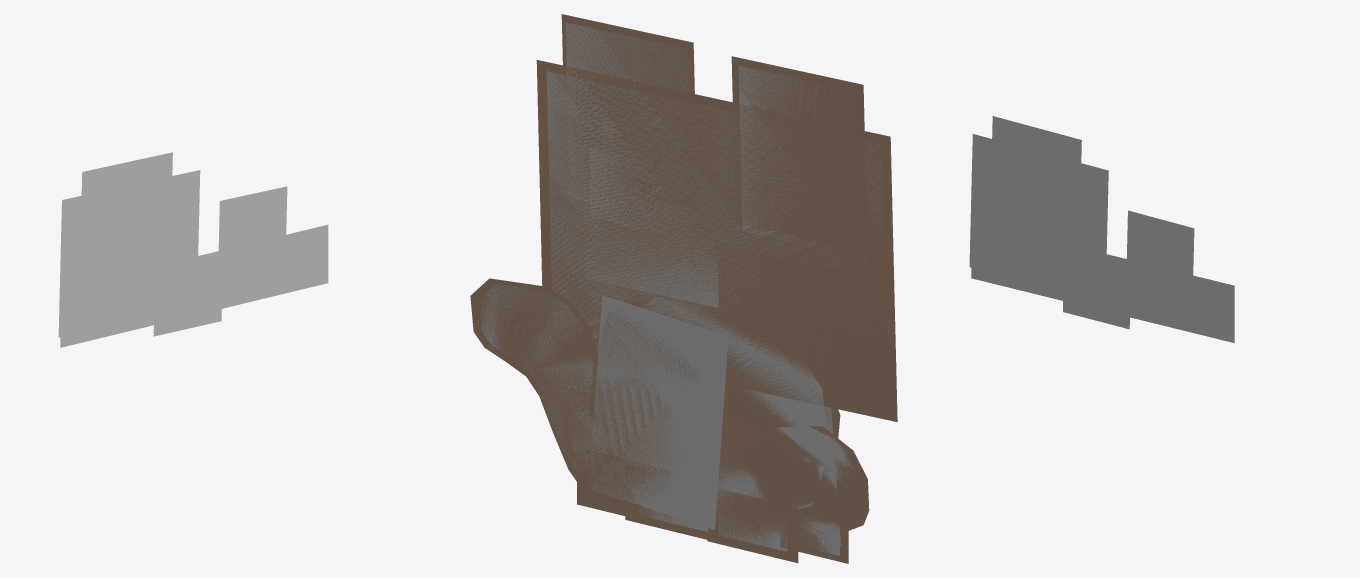
File: Skeleton Prefab Mesh _Spine GameObject_.glb
3 renders of one model, left to right at view 1: azimuth 30°, elevation 25°; view 2: azimuth 150°, elevation 25°; view 3: azimuth 330°, elevation 25°, orthographic.
Parts seen in each view (by area): view 1: Skeleton Prefab Mesh [Spine GameObject]; view 2: Skeleton Prefab Mesh [Spine GameObject]; view 3: Skeleton Prefab Mesh [Spine GameObject].
Part boxes in pixels (x1,y1,x2,y2): Skeleton Prefab Mesh [Spine GameObject]: [58, 152, 328, 347]; Skeleton Prefab Mesh [Spine GameObject]: [470, 14, 897, 563]; Skeleton Prefab Mesh [Spine GameObject]: [969, 116, 1234, 342].
Bounding box in the file's own units: 1.07 × 1.18 × 0.
